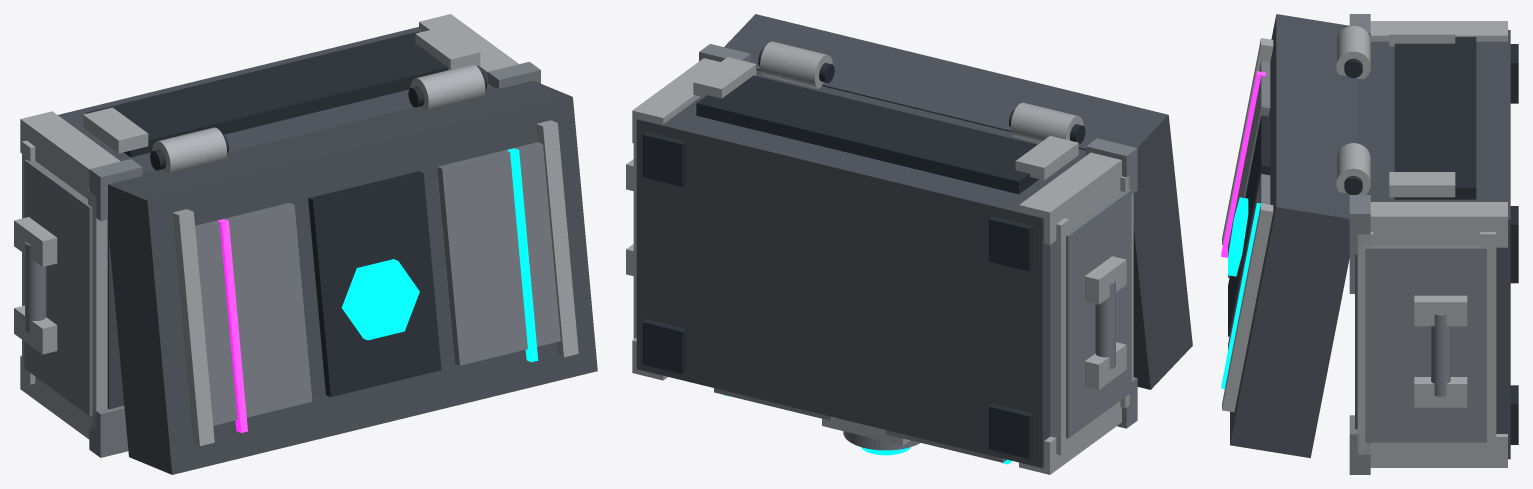
Rendered from cyberpunk_chest_v2.glb.
The picture shows the model from 3 angles, left to right: view 1: azimuth 30°, elevation 25°; view 2: azimuth 150°, elevation 25°; view 3: azimuth 270°, elevation 25°; orthographic projection. The views are drawn at different scales.
Visible parts, largest first — view 1: LidShell, TopPlate_1.05, TopPlate_0, TopPlate_-1.05, RearInset, SideArmor_-1, LowerShell, TopRail_-1.48, TopEmblem, TopRail_1.48, Corner_-1.62_0.92, SideRailTop_-1 (+15 smaller); view 2: LowerShell, LidShell, RearInset, SideArmor_-1, Corner_-1.62_0.92, SideRailBottom_-1, Corner_1.62_0.92, Hinge_1.05, Foot_-1.45_-0.75, Foot_-1.45_0.75, Foot_1.45_-0.75, Foot_1.45_0.75 (+15 smaller); view 3: LidShell, SideArmor_1, LowerShell, RearInset, Corner_1.62_0.92, Corner_1.62_-0.92, TopRail_1.48, SideRailBottom_1, SideRailTop_1, TopPlate_0, RearLatch_1.35, HandleBracketB_1 (+18 smaller).
Boxes of the visible parts, <box> form: LidShell: <box>107,80,597,474</box>; TopPlate_1.05: <box>437,142,560,365</box>; TopPlate_0: <box>308,171,441,396</box>; TopPlate_-1.05: <box>195,203,312,425</box>; RearInset: <box>86,31,447,157</box>; SideArmor_-1: <box>24,159,92,416</box>; LowerShell: <box>58,27,493,409</box>; TopRail_-1.48: <box>172,209,214,445</box>; TopEmblem: <box>341,259,419,340</box>; TopRail_1.48: <box>536,120,578,357</box>; Corner_-1.62_0.92: <box>20,111,120,198</box>; SideRailTop_-1: <box>88,189,107,430</box>; LowerShell: <box>636,70,1085,468</box>; LidShell: <box>724,14,1192,389</box>; RearInset: <box>696,75,1038,194</box>; SideArmor_-1: <box>1066,189,1131,438</box>; Corner_-1.62_0.92: <box>1019,152,1121,244</box>; SideRailBottom_-1: <box>1050,218,1069,455</box>; Corner_1.62_0.92: <box>632,58,720,143</box>; Hinge_1.05: <box>760,41,832,88</box>; Foot_-1.45_-0.75: <box>988,403,1033,458</box>; Foot_-1.45_0.75: <box>988,216,1033,271</box>; Foot_1.45_-0.75: <box>642,319,686,374</box>; Foot_1.45_0.75: <box>642,131,686,186</box>; LidShell: <box>1230,14,1356,458</box>; SideArmor_1: <box>1365,245,1486,442</box>; LowerShell: <box>1355,30,1510,459</box>; RearInset: <box>1394,37,1476,199</box>; Corner_1.62_0.92: <box>1370,202,1507,247</box>; Corner_1.62_-0.92: <box>1370,434,1507,467</box>; TopRail_1.48: <box>1222,203,1273,412</box>; SideRailBottom_1: <box>1480,232,1496,454</box>; SideRailTop_1: <box>1357,232,1373,454</box>; TopPlate_0: <box>1228,115,1270,336</box>; RearLatch_1.35: <box>1389,172,1455,197</box>; HandleBracketB_1: <box>1414,295,1467,326</box>.
Bounding box in the file's own units: 3.99 × 2.73 × 2.25.
